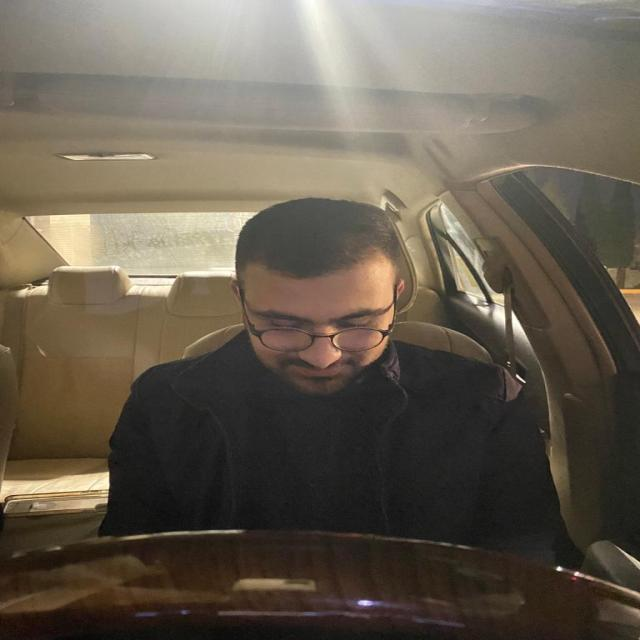drowsy: (221, 195, 423, 403)
